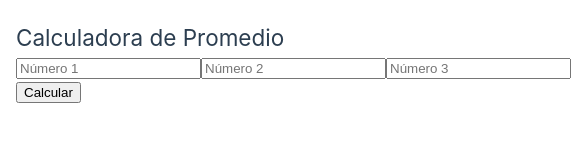
Test: Promedio.vue › muestra el promedio correcto al ingresar tres números válidos
The width and height of the screenshot is (588, 160).
Type "10" into the number field with placeholder "Número 1". click: (108, 68)
box: left=16, top=58, right=201, bottom=79
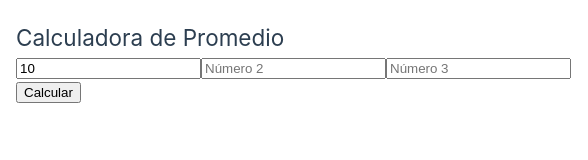
Type "20" into the number field with placeholder "Número 2". click: (294, 68)
box: left=201, top=58, right=386, bottom=79
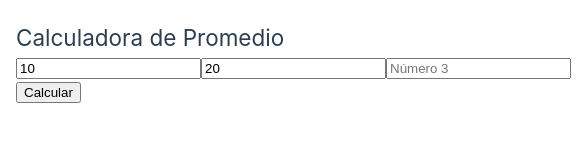
Type "30" into the number field with placeholder "Número 3". click: (478, 68)
box: left=386, top=58, right=571, bottom=79
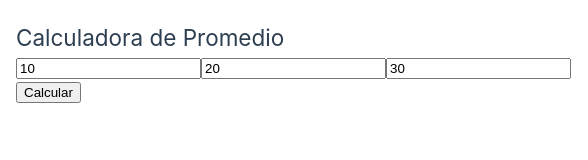
Click the button "Calcular". click: (48, 92)
box: left=16, top=82, right=81, bottom=103
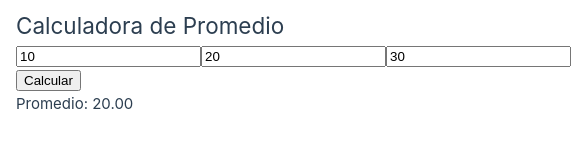
Expected: the element with class "resultado" is shown, left=16, top=94, right=133, bottom=113
Expected: the text "20.00" is shown, left=92, top=94, right=133, bottom=113
